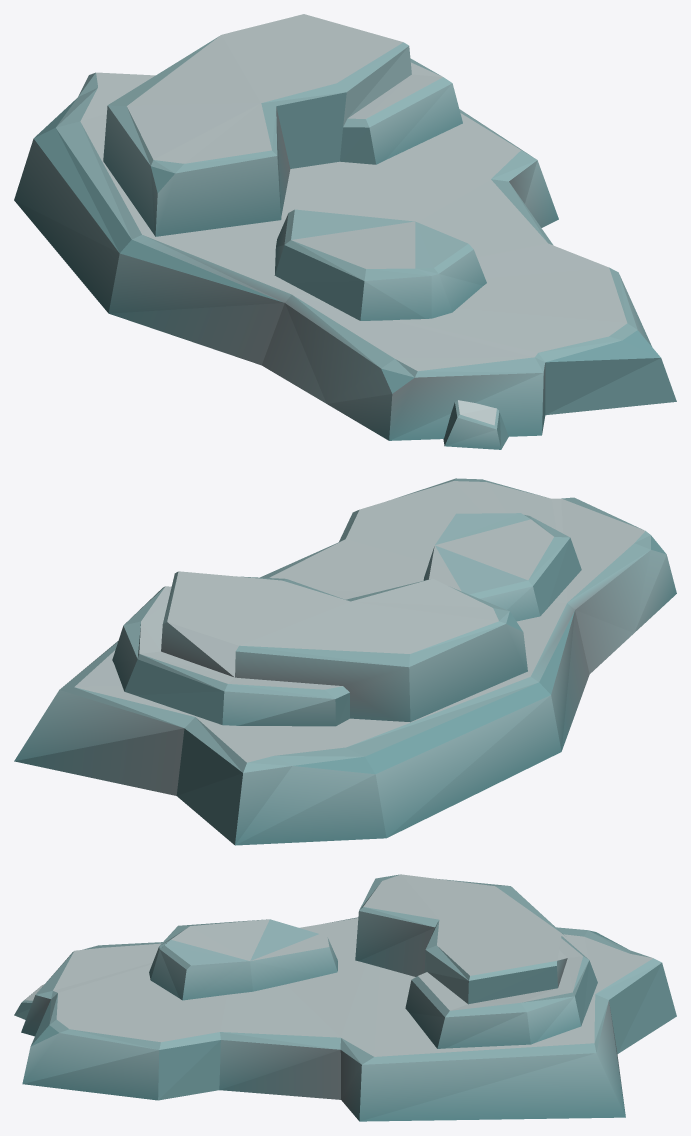
Rendered from WaterRockA_0.glb.
3 renders of one model, top to bottom at view 1: azimuth 30°, elevation 25°; view 2: azimuth 150°, elevation 25°; view 3: azimuth 270°, elevation 25°, orthographic. The views are drawn at different scales.
Parts seen in each view (by area): view 1: WaterRockA; view 2: WaterRockA; view 3: WaterRockA.
Boxes of the visible parts, bbox=[...] form: WaterRockA: bbox=[14, 14, 676, 449]; WaterRockA: bbox=[14, 478, 676, 845]; WaterRockA: bbox=[14, 874, 676, 1121].
Bounding box in the file's own units: 6.69 × 2.15 × 11.35.
